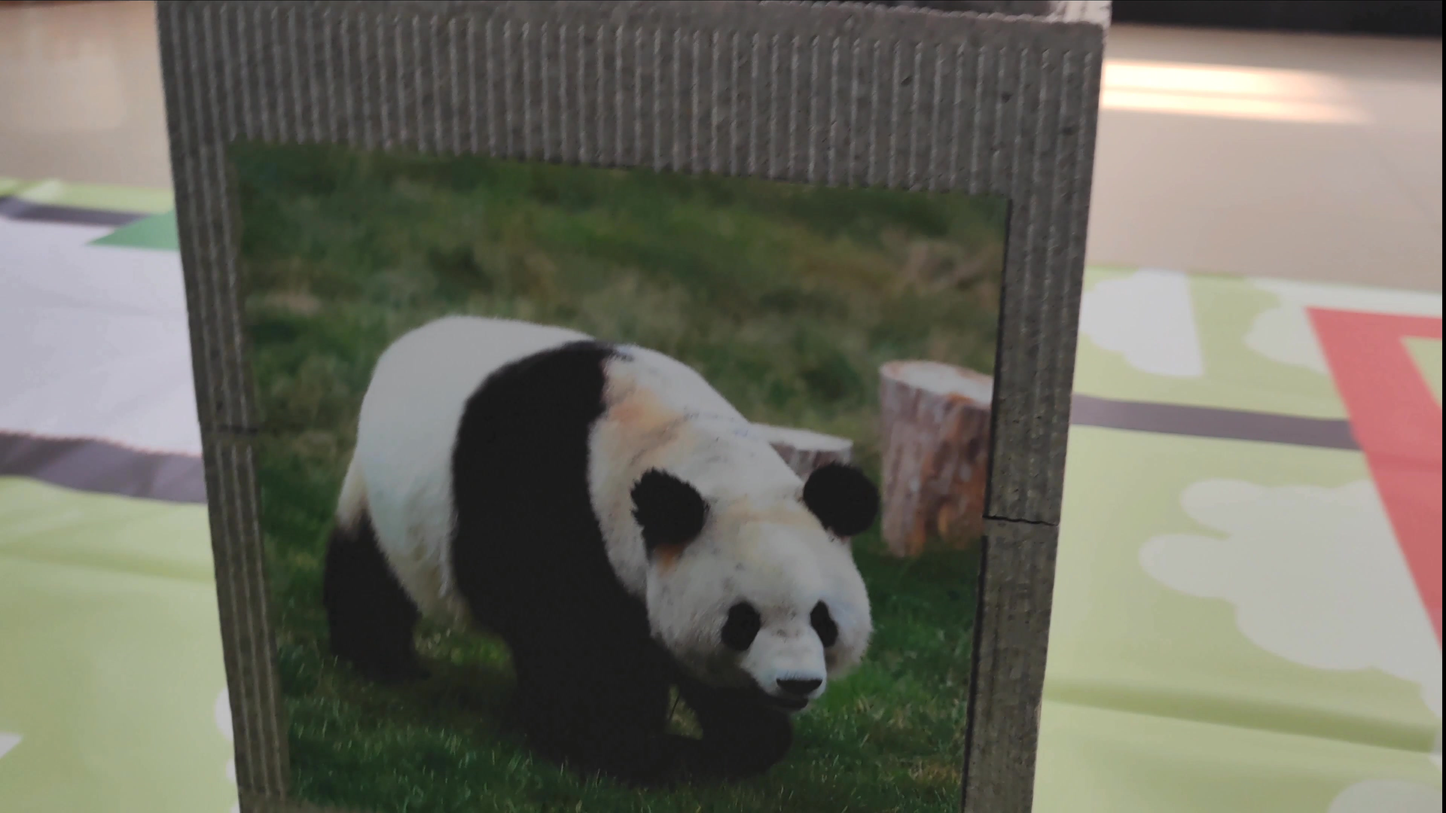panda: (299, 276, 886, 772)
